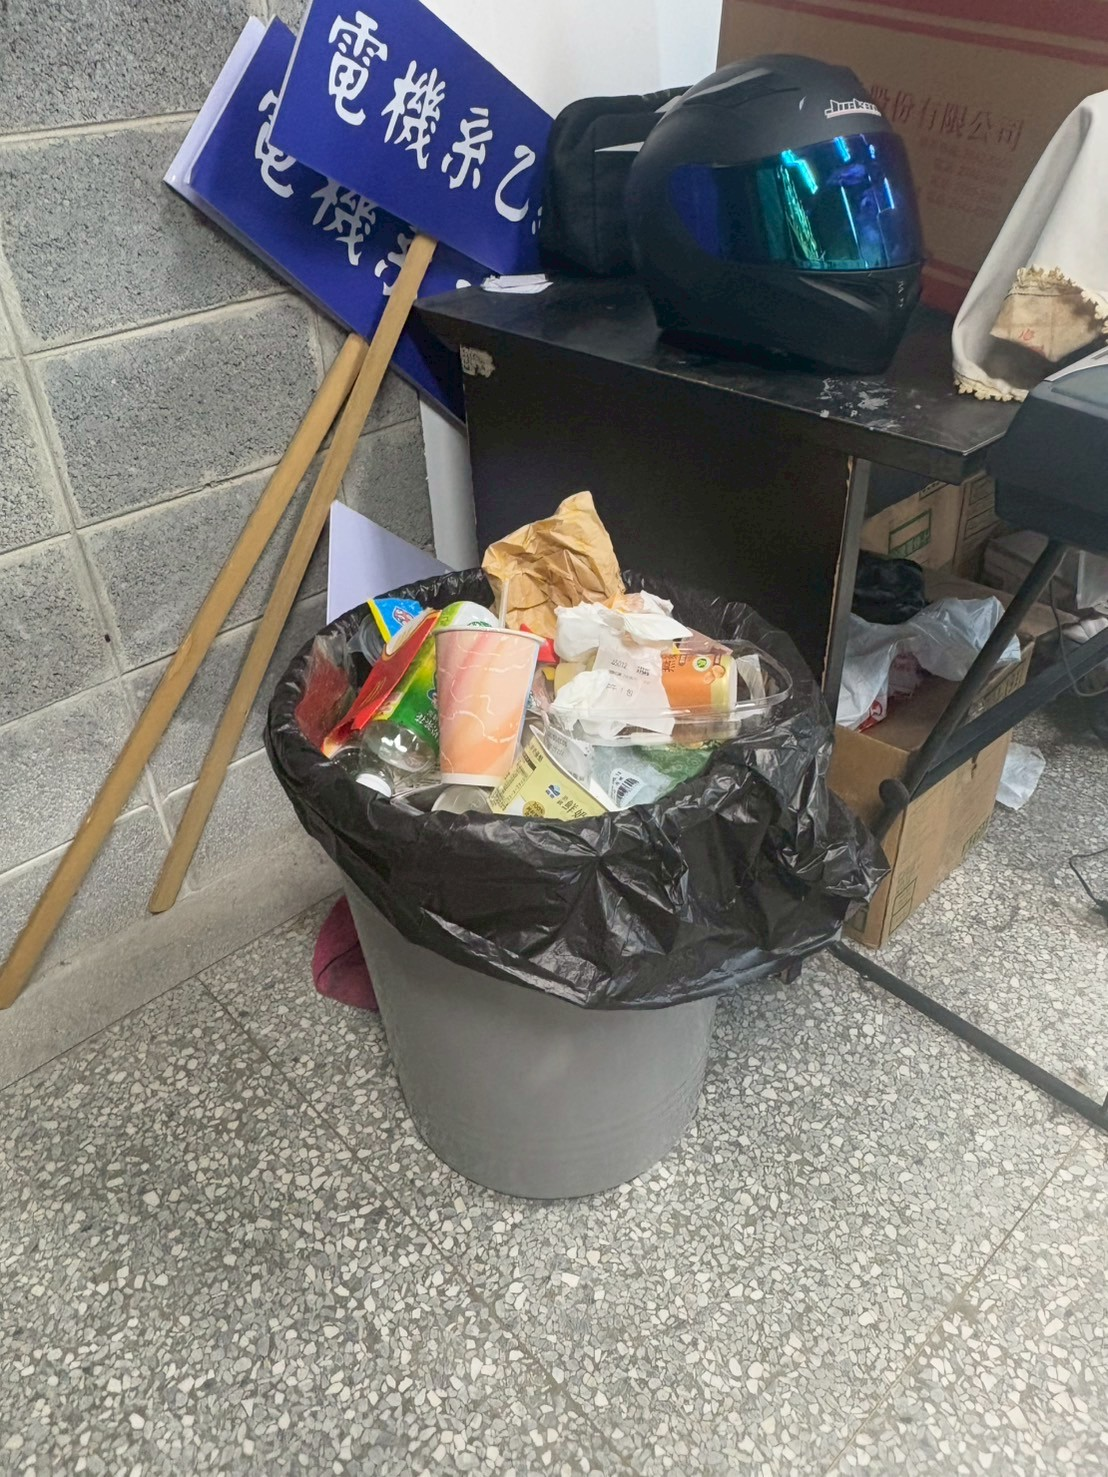overflow_bin: (256, 487, 887, 1235)
